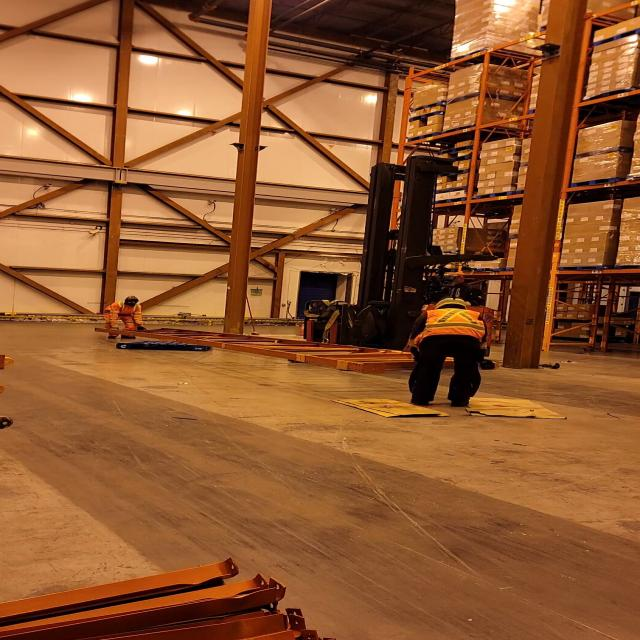forklift: (283, 161, 496, 372)
human: (401, 295, 498, 412), (411, 270, 511, 320), (95, 290, 150, 339)
objectofinterest: (94, 322, 480, 377), (450, 394, 575, 422), (329, 394, 459, 419), (112, 335, 216, 354)
